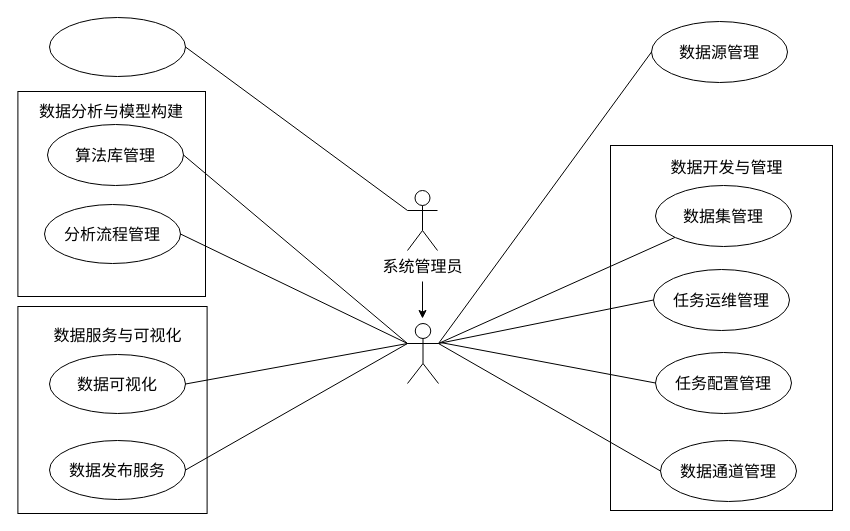
The diagram is 850 pixels wide and 531 high, and some of its shapes have lost their labels. Here are the shapes that lost their labels. From the top down, the centre of each, then its label:
At (x=117, y=46): "系统管理".
At (x=422, y=353): "普通用户".
